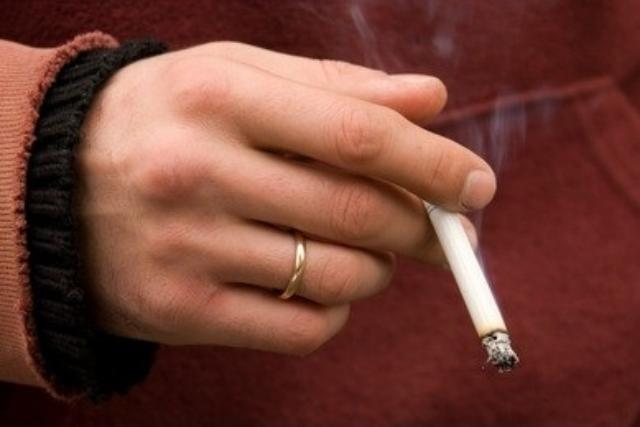Cigarette: (414, 184, 528, 378)
